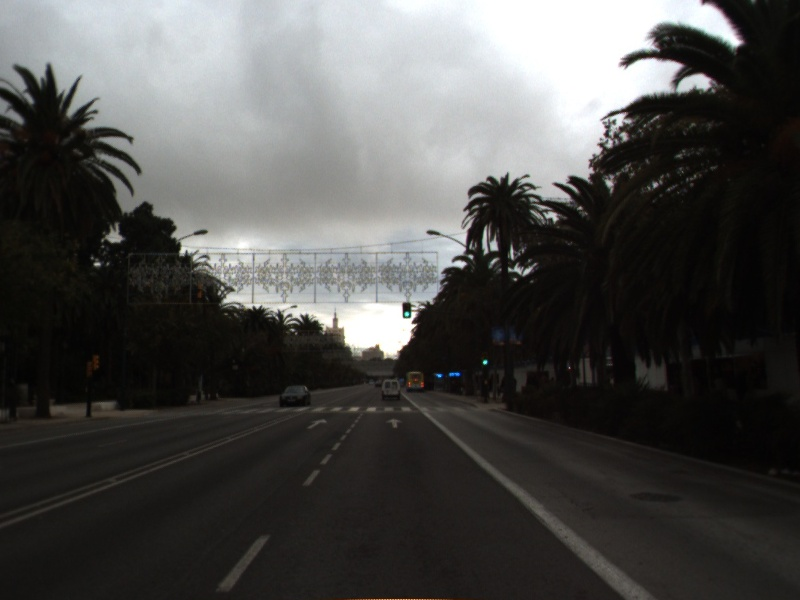STRAIGHT: (305, 416, 330, 431), (384, 416, 405, 430)
